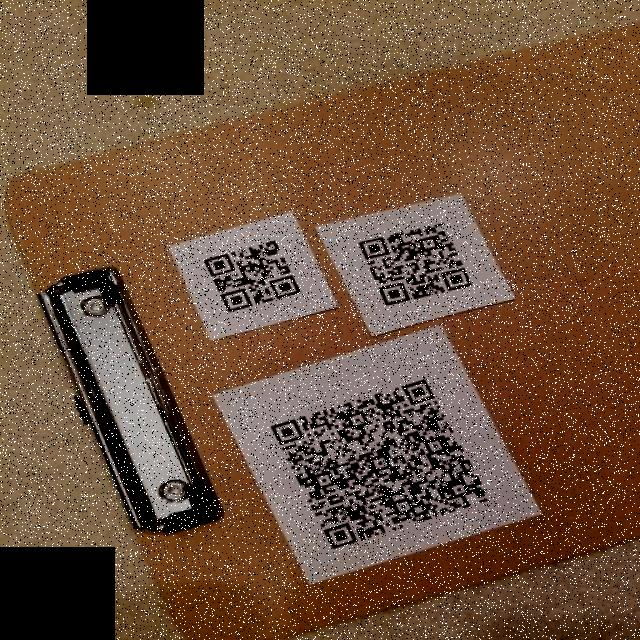QR_CODE: (253, 359, 508, 555), (348, 212, 492, 316), (189, 220, 309, 318)
